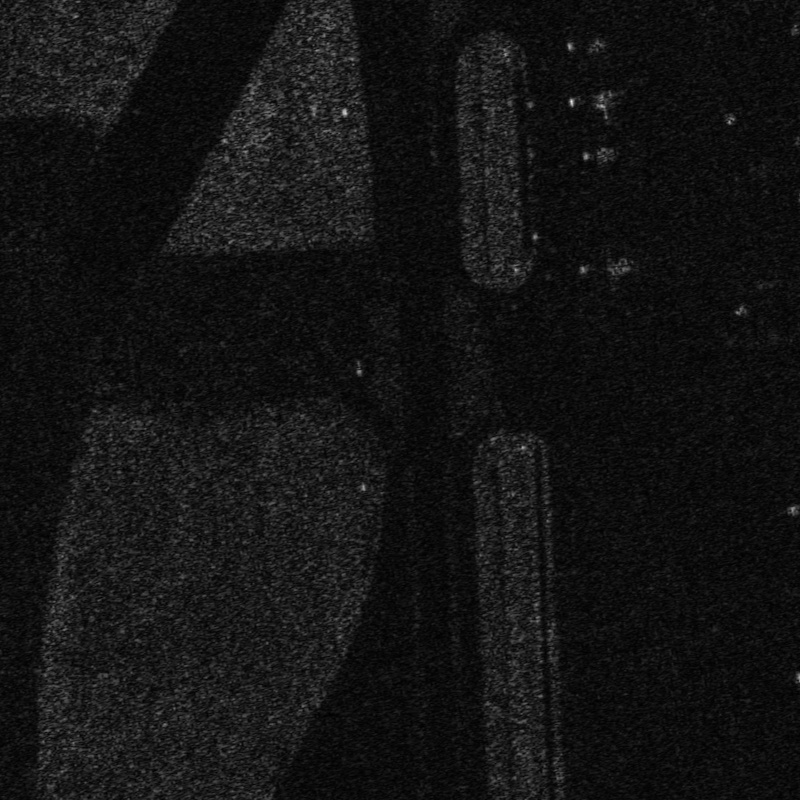ARJ21: (560, 78, 628, 122), (571, 133, 627, 172)
other: (550, 23, 617, 65), (577, 243, 640, 285)
